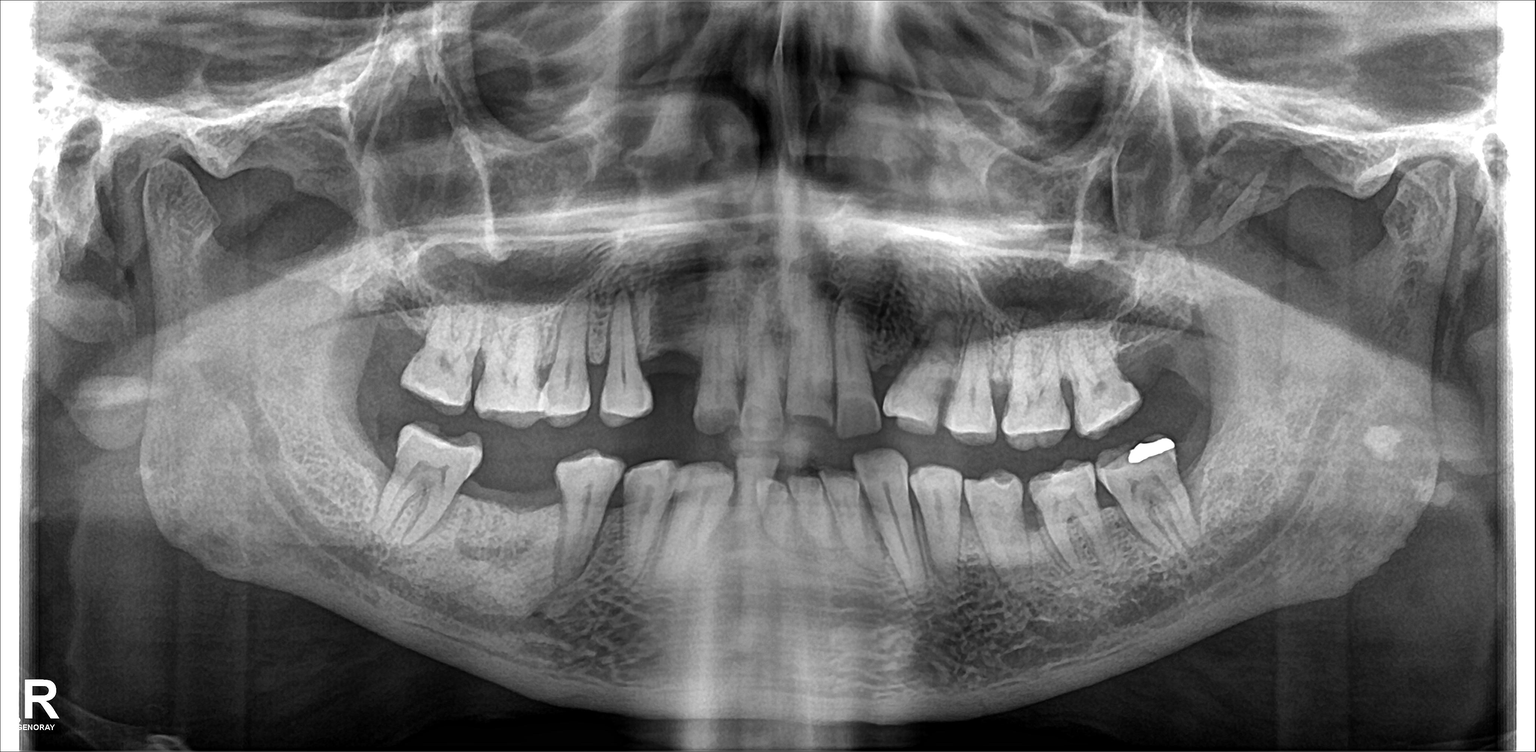Dental Caries: (836, 396, 885, 436)
Missing Tooth: (482, 456, 553, 554), (1123, 316, 1184, 413), (653, 302, 703, 408), (346, 413, 396, 493), (374, 296, 413, 392)
